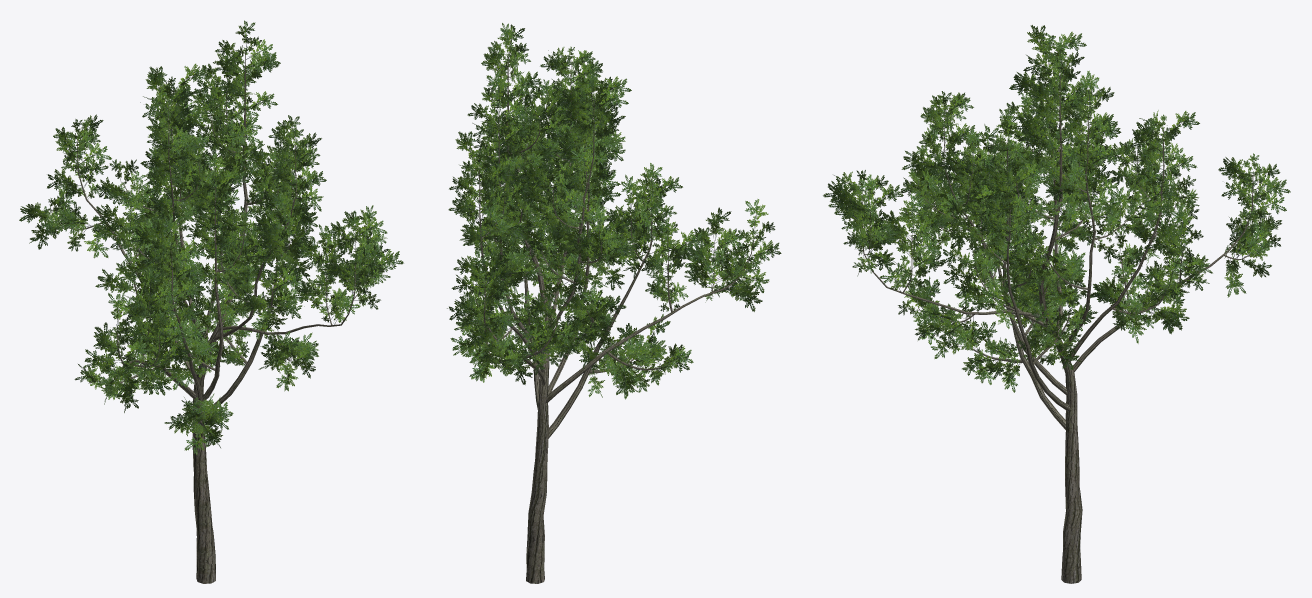
Rendered from ash_small_02.glb.
3 views of the same model, side by side, from view 1: azimuth 30°, elevation 25°; view 2: azimuth 150°, elevation 25°; view 3: azimuth 270°, elevation 25° (orthographic). The views are drawn at different scales.
Visible parts, largest first — view 1: Tree; view 2: Tree; view 3: Tree.
Boxes of the visible parts, x1=… form: Tree: x1=19, y1=20, x2=403, y2=583; Tree: x1=447, y1=23, x2=781, y2=583; Tree: x1=823, y1=25, x2=1290, y2=583.
Bounding box in the file's own units: 25.86 × 48.95 × 38.23.
Materials: 2 (2 with a texture image).
